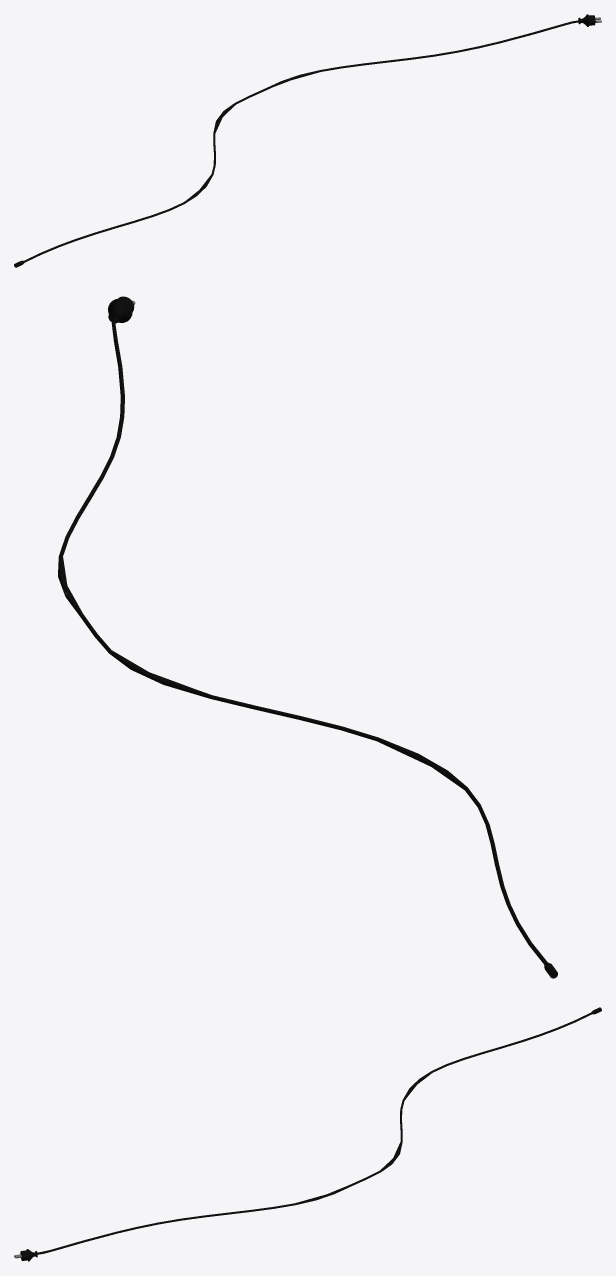
File: Cable_long.fbx
3 renders of one model, top to bottom at view 1: azimuth 90°, elevation 25°; view 2: azimuth 150°, elevation 25°; view 3: azimuth 270°, elevation 25°, orthographic. The views are drawn at different scales.
Visible parts, largest first — view 1: polySurface176; view 2: polySurface176; view 3: polySurface176.
Part boxes in pixels (<box>): polySurface176: <box>14,14,601,267</box>; polySurface176: <box>58,296,557,978</box>; polySurface176: <box>14,1007,601,1261</box>.
Size of the model in its own units: 425 by 9.22 by 425.
Materials: 1 (1 with a texture image).
